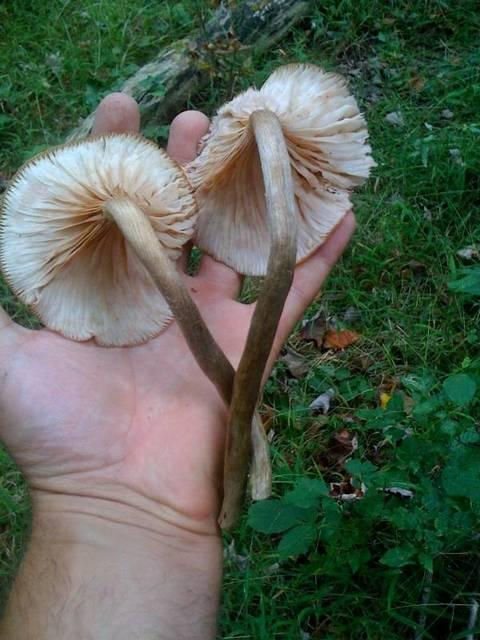edible_mushroom: (178, 61, 376, 531), (0, 129, 200, 347)
